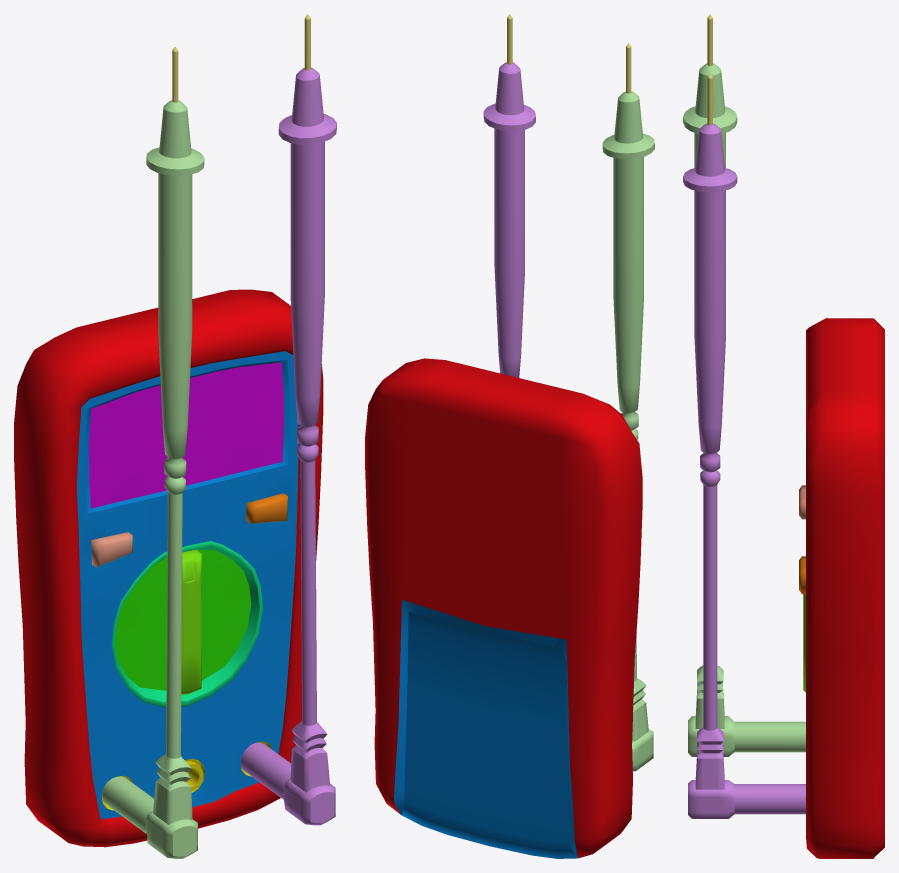
The model's file is multimetr.fbx.
The picture shows the model from 3 angles, left to right: view 1: azimuth 30°, elevation 25°; view 2: azimuth 150°, elevation 25°; view 3: azimuth 270°, elevation 25°; orthographic projection. The views are drawn at different scales.
Parts seen in each view (by area): view 1: body.final, hand.final, mid.final; view 2: body.final, hand.final; view 3: body.final, hand.final.
Boxes of the visible parts, x1,y1,x2,y2 form: body.final: (14,289,323,847); hand.final: (102,14,336,858); mid.final: (111,541,262,707); body.final: (365,358,642,858); hand.final: (483,14,654,771); body.final: (799,318,884,858); hand.final: (683,14,805,818).
Size of the model in its own units: 281 by 817 by 191.
